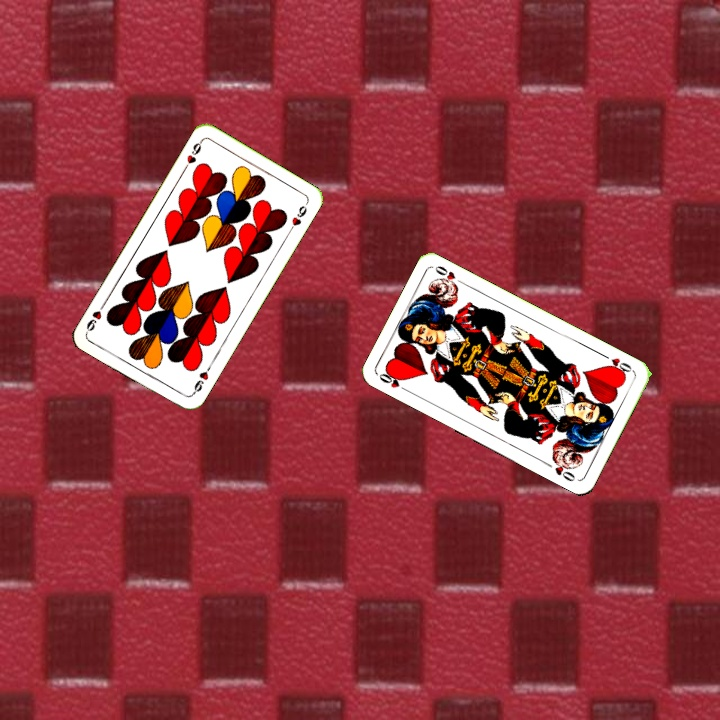H9: (188, 361, 214, 398), (180, 136, 205, 173)
HO: (598, 350, 636, 378), (375, 368, 412, 395)
